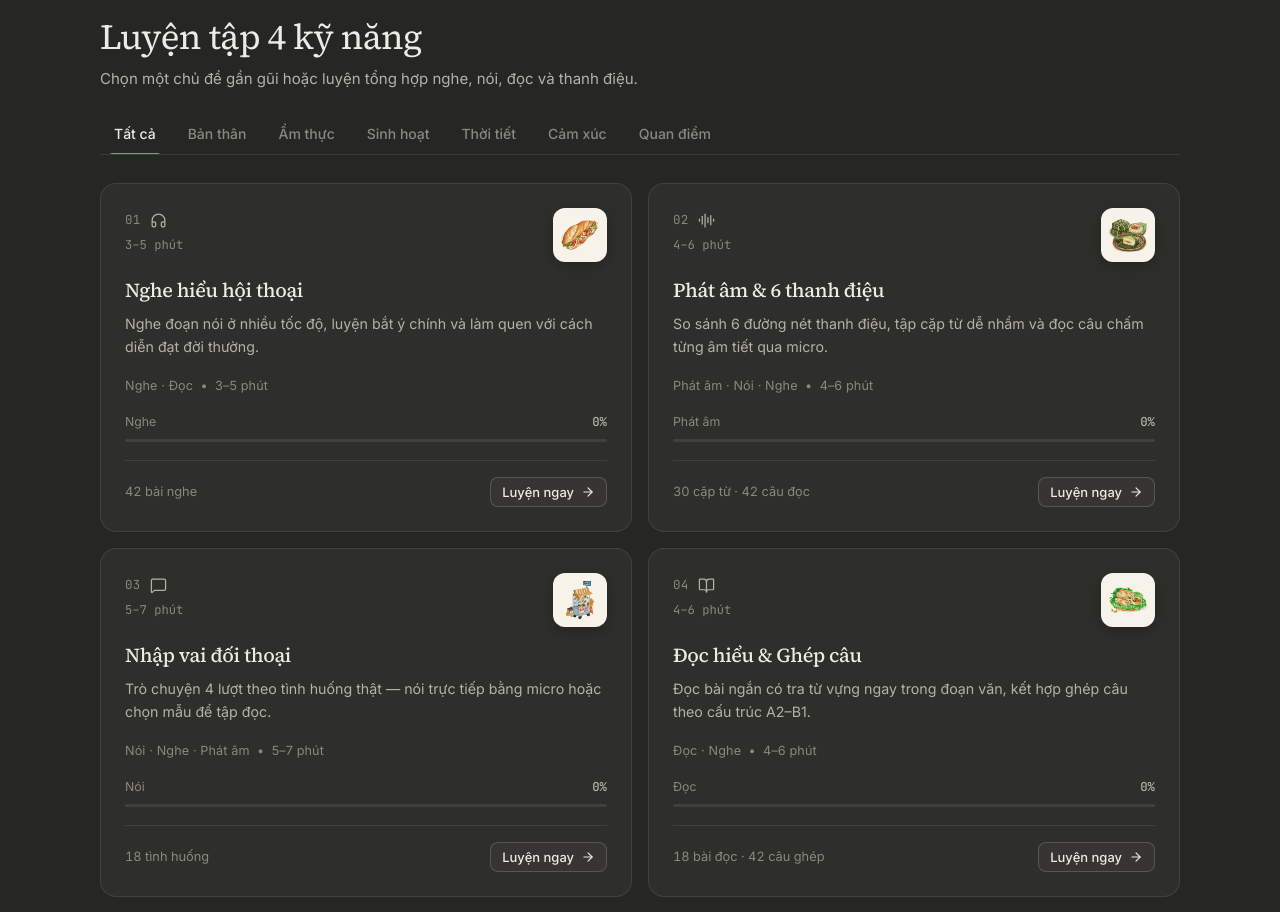
Test: GameHub › shows topic spotlight with key phrases and grammar when a topic is clicked
Later steps or results of the test are not shown.
Click the tab with test id "topic-pill-food": [307, 135] box [264,115,349,154]
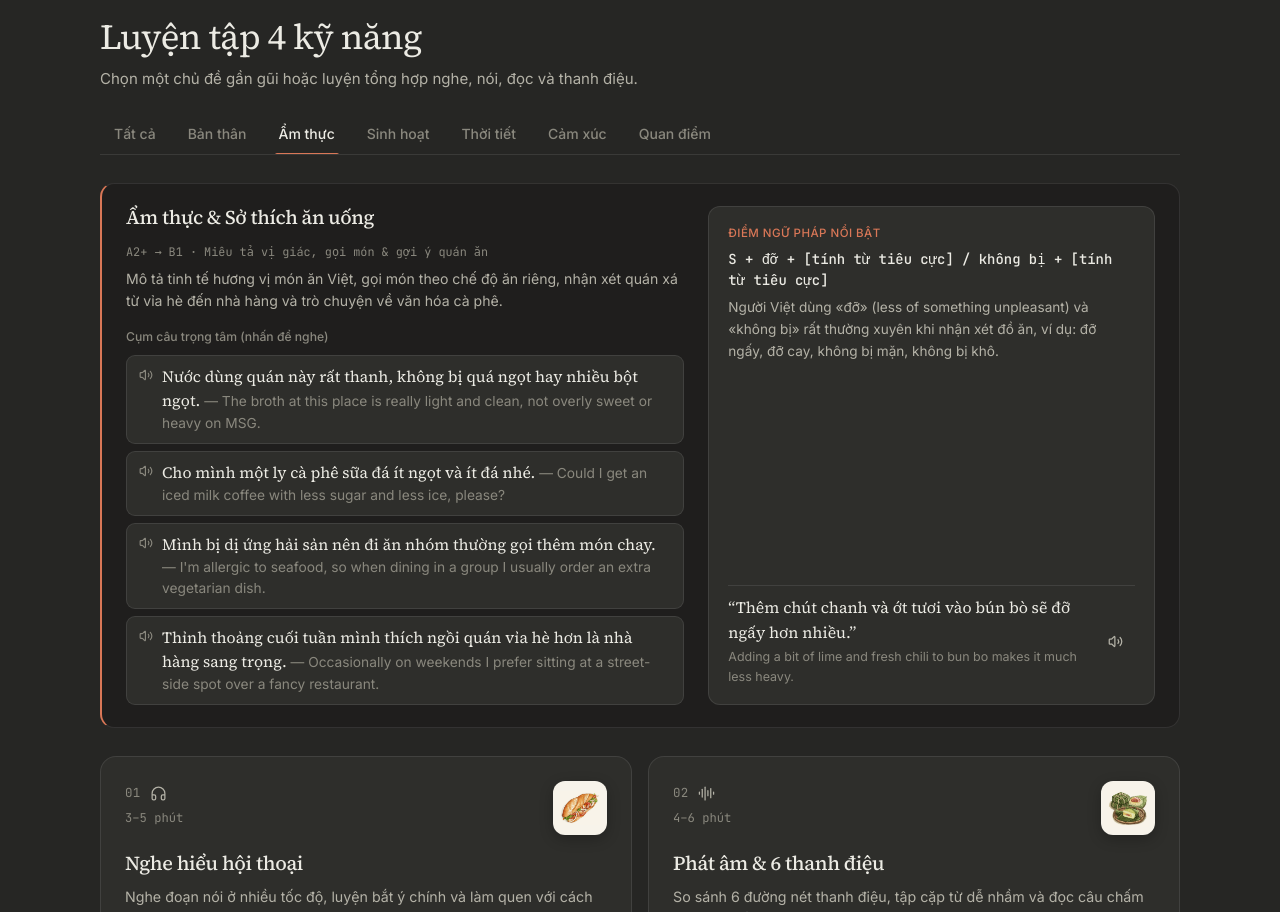
Check: the element with test id "topic-spotlight" is shown, box [100,183,1180,728]
Check: the text "Điểm ngữ pháp nổi bật" is shown, box [728,226,881,240]
